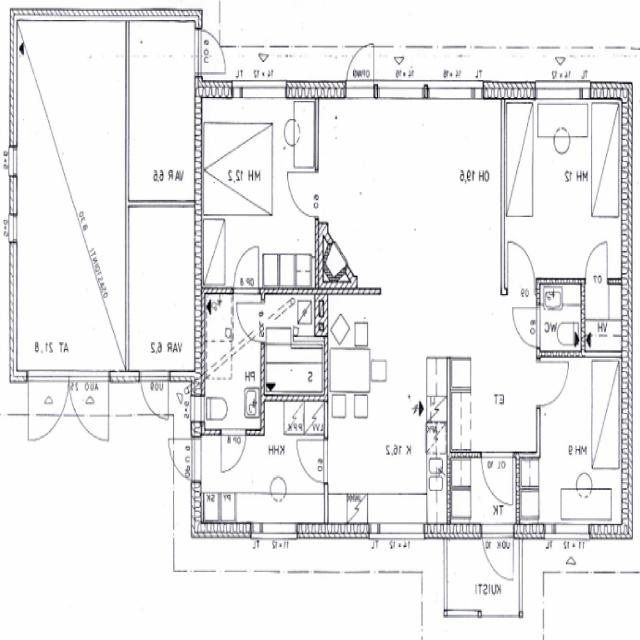door: (28, 372, 69, 446), (69, 372, 109, 446), (482, 524, 514, 588), (346, 39, 374, 99), (165, 438, 202, 482), (482, 452, 512, 504), (194, 31, 229, 73), (141, 372, 168, 425), (296, 439, 328, 483), (287, 172, 319, 216), (508, 245, 535, 294), (537, 362, 567, 405), (236, 303, 264, 342), (222, 429, 246, 474), (512, 308, 540, 346), (586, 243, 608, 284)
